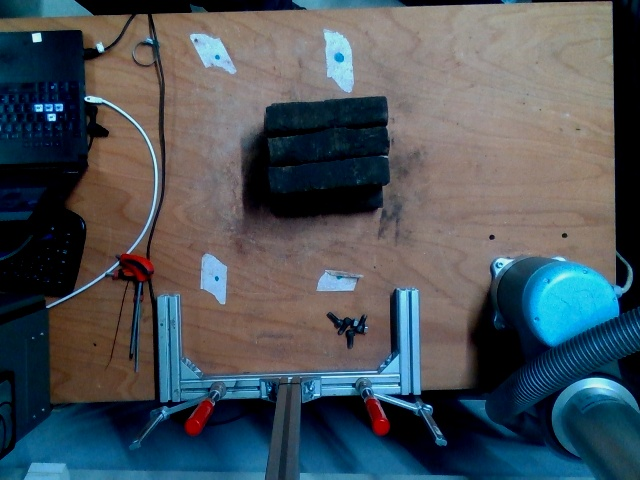brick-side: (270, 155, 387, 195), (267, 125, 384, 165), (266, 98, 388, 127)
